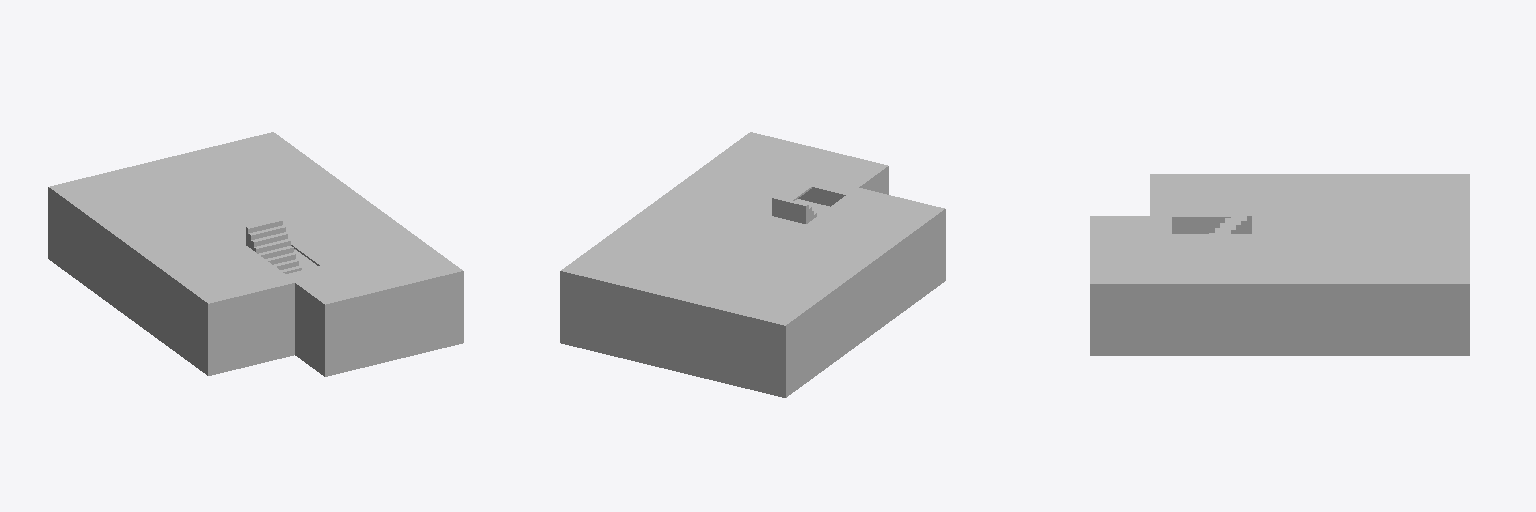
File: house_basement.obj
The picture shows the model from 3 angles: view 1: azimuth 30°, elevation 25°; view 2: azimuth 150°, elevation 25°; view 3: azimuth 270°, elevation 25°; orthographic projection.
Parts seen in each view (by area): view 1: Cube.063, Cube.049, Cube.041, Cube.061, Cube.056, Cube.064, Cube.045, Cube.055, Cube.005, Cube.048, Cube.062, Cube.051 (+1 smaller); view 2: Cube.050, Cube.063, Cube.041, Cube.049, Cube.061, Cube.064, Cube.045, Cube.035, Cube.039, Cube.048, Cube.062, Cube.056; view 3: Cube.054, Cube.041, Cube.063, Cube.061, Cube.064, Cube.045, Cube.005, Cube.039, Cube.052, Cube.062, Cube.053.
Boxes of the visible parts, x1=… form: Cube.063: x1=137, y1=133, x2=341, y2=215; Cube.049: x1=48, y1=187, x2=209, y2=357; Cube.041: x1=207, y1=184, x2=421, y2=274; Cube.061: x1=118, y1=218, x2=292, y2=303; Cube.056: x1=325, y1=270, x2=463, y2=357; Cube.064: x1=48, y1=167, x2=201, y2=237; Cube.045: x1=287, y1=242, x2=461, y2=304; Cube.055: x1=207, y1=283, x2=294, y2=357; Cube.005: x1=294, y1=250, x2=463, y2=376; Cube.048: x1=118, y1=292, x2=294, y2=375; Cube.062: x1=246, y1=218, x2=301, y2=273; Cube.051: x1=295, y1=282, x2=326, y2=358; Cube.050: x1=560, y1=270, x2=786, y2=379; Cube.063: x1=561, y1=221, x2=765, y2=303; Cube.041: x1=632, y1=162, x2=847, y2=252; Cube.049: x1=784, y1=209, x2=945, y2=379; Cube.061: x1=770, y1=189, x2=945, y2=275; Cube.064: x1=702, y1=254, x2=855, y2=326; Cube.045: x1=712, y1=133, x2=887, y2=193; Cube.035: x1=699, y1=329, x2=855, y2=397; Cube.039: x1=560, y1=325, x2=698, y2=376; Cube.048: x1=856, y1=263, x2=945, y2=345; Cube.062: x1=772, y1=196, x2=817, y2=223; Cube.056: x1=750, y1=132, x2=888, y2=206; Cube.054: x1=1090, y1=283, x2=1469, y2=337; Cube.041: x1=1170, y1=216, x2=1329, y2=285; Cube.063: x1=1330, y1=216, x2=1469, y2=285; Cube.061: x1=1150, y1=174, x2=1329, y2=214; Cube.064: x1=1330, y1=174, x2=1469, y2=214; Cube.045: x1=1090, y1=216, x2=1169, y2=285; Cube.005: x1=1090, y1=338, x2=1329, y2=355; Cube.039: x1=1330, y1=338, x2=1469, y2=355; Cube.052: x1=1150, y1=215, x2=1468, y2=233; Cube.062: x1=1209, y1=199, x2=1251, y2=233; Cube.053: x1=1328, y1=174, x2=1331, y2=337.
Bounding box in the file's own units: 26 × 10 × 38.